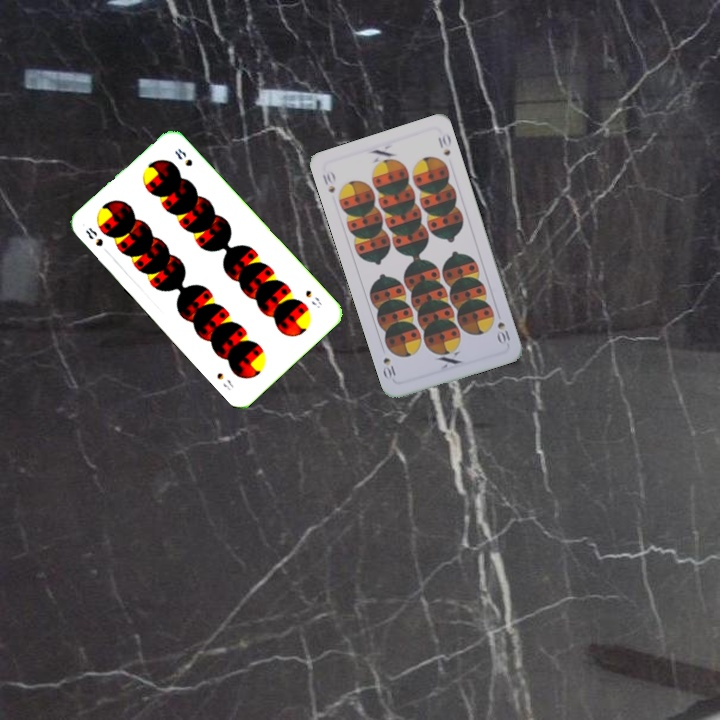S10: (493, 317, 513, 347), (318, 167, 338, 196)
S8: (82, 223, 106, 249), (301, 286, 324, 311)
